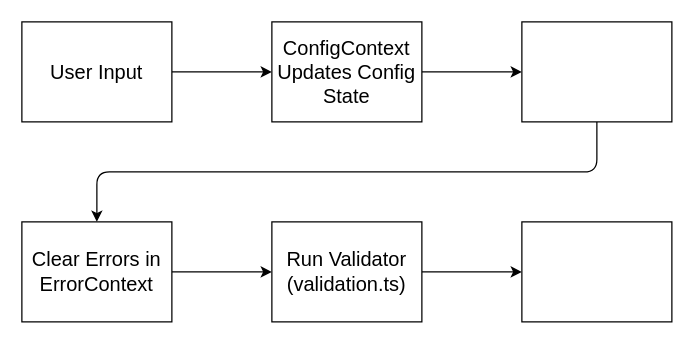
Some shapes in this 694 by 344 pixel diagram are drawn without their labels. Each missing label, with the centre of its shape:
Error Return and set by ErrorContext: the point at 596,271
ErrorValidator Hook Detects Config Change: the point at 596,71
